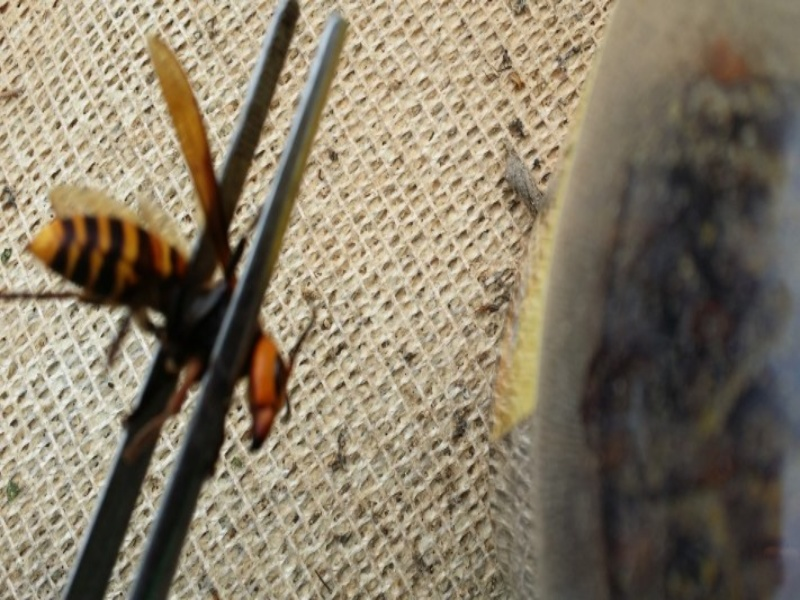asian_giant_hornet: (23, 177, 298, 458)
